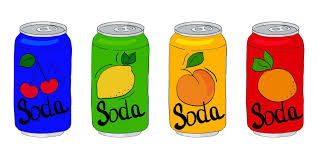can: (14, 21, 73, 137), (90, 21, 149, 137), (169, 20, 226, 139), (245, 22, 302, 140)
